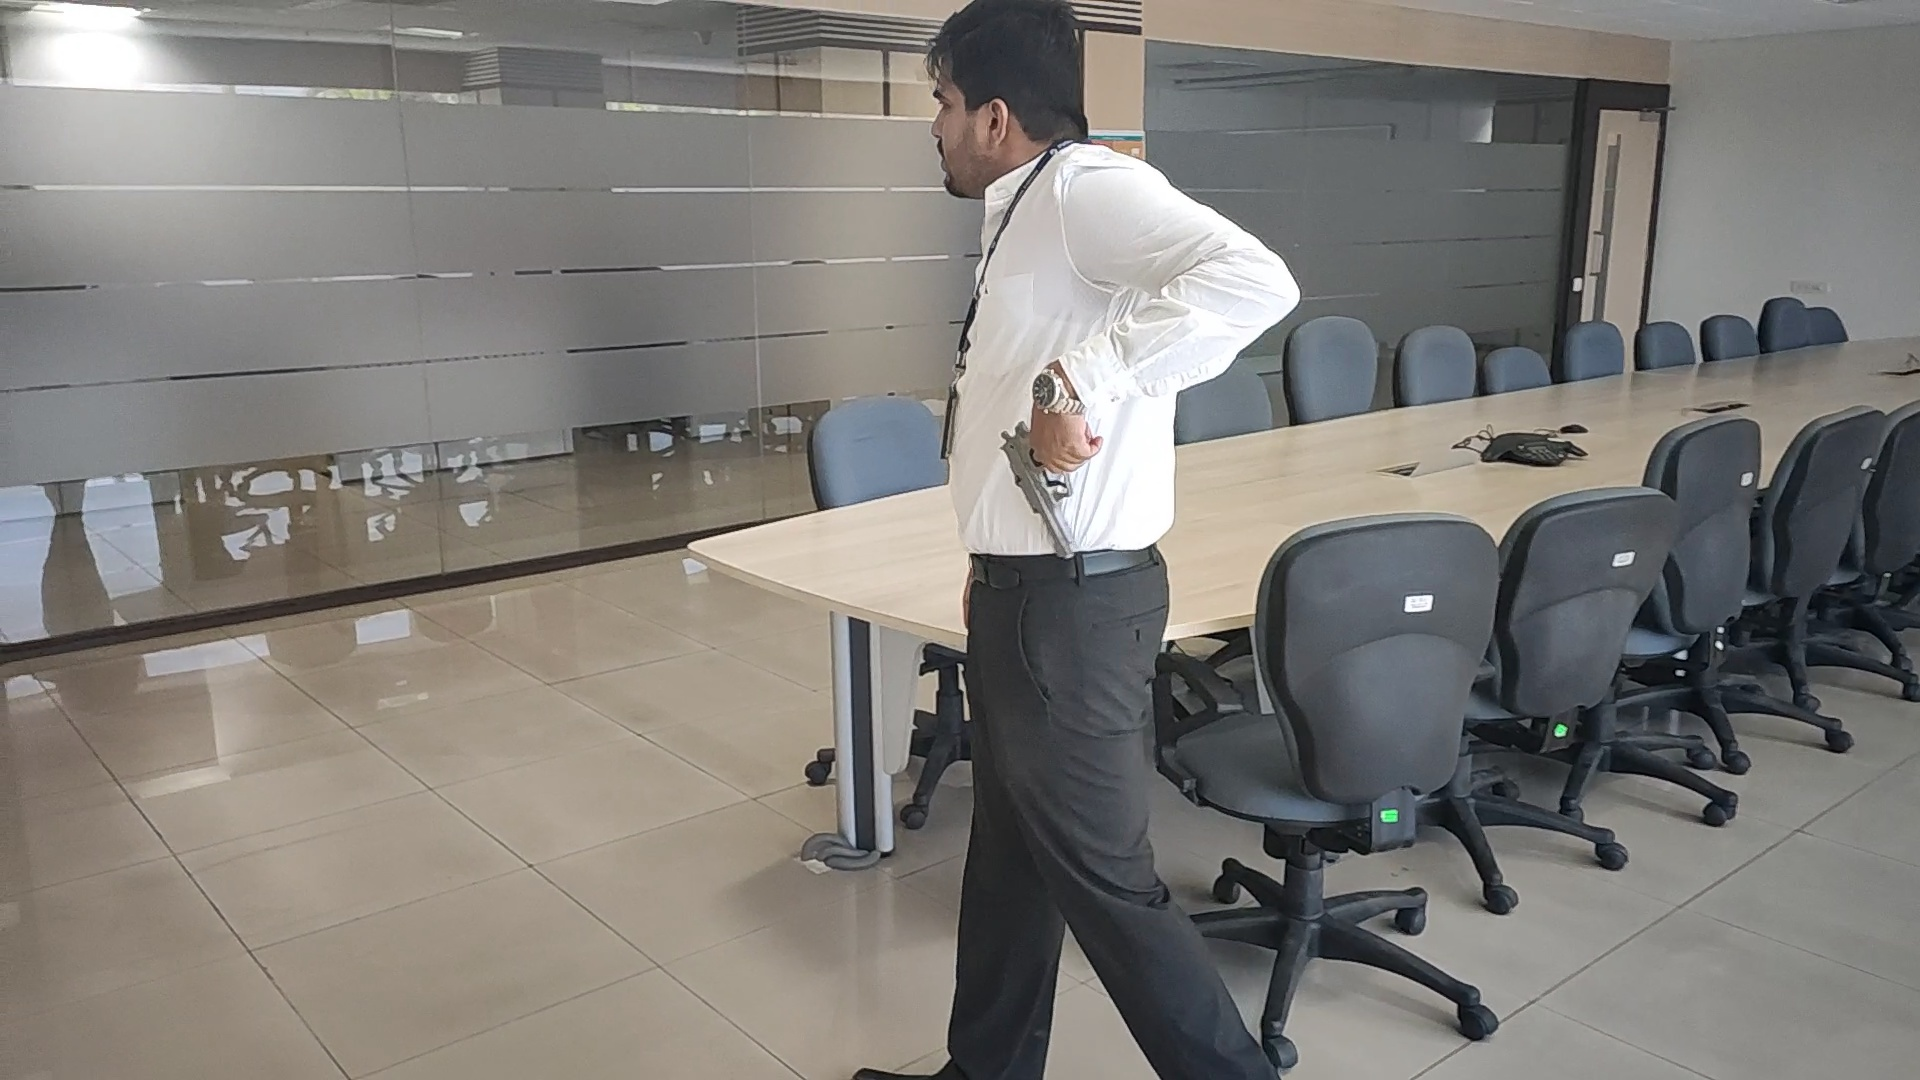gun: (996, 440, 1073, 560)
